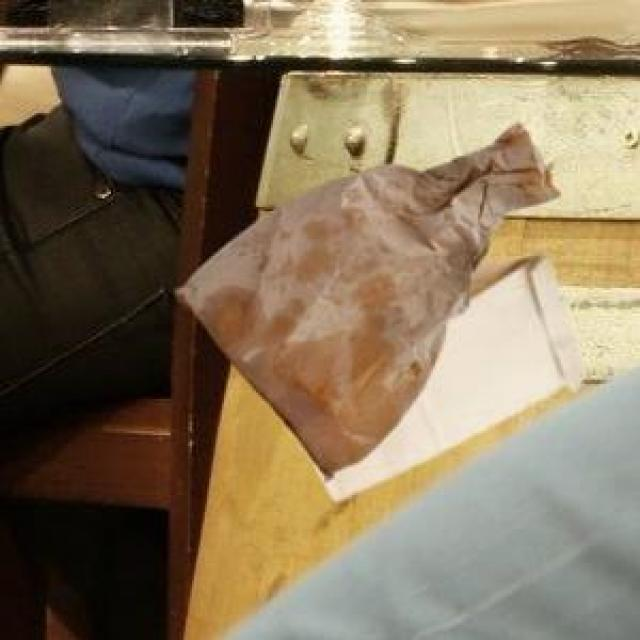Paper -Biodegradable-: (171, 129, 545, 487), (324, 253, 588, 490)
